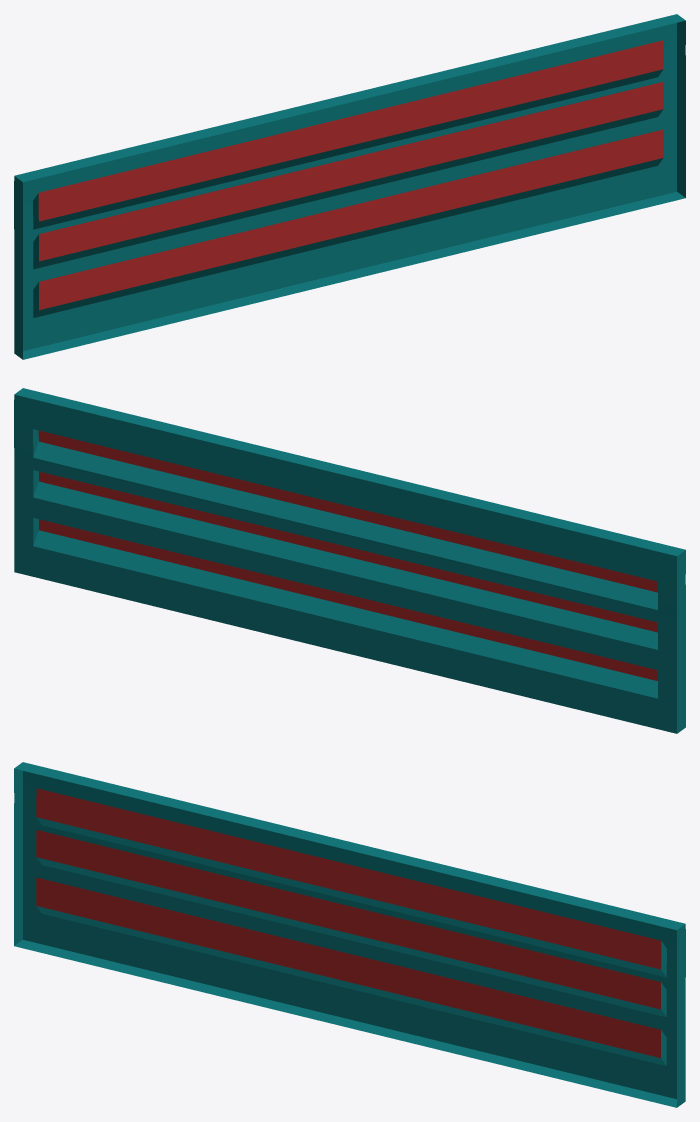
File: SM_Vents.fbx
The picture shows the model from 3 angles, top to bottom: view 1: azimuth 30°, elevation 25°; view 2: azimuth 150°, elevation 25°; view 3: azimuth 330°, elevation 25°; orthographic projection.
Parts seen in each view (by area): view 1: SM_Vents; view 2: SM_Vents; view 3: SM_Vents.
Boxes of the visible parts, left/top/right/bottom form: SM_Vents: left=14, top=14, right=685, bottom=359; SM_Vents: left=14, top=388, right=685, bottom=733; SM_Vents: left=14, top=762, right=685, bottom=1107.
Size of the model in its own units: 51.75 by 13.25 by 1.23.
